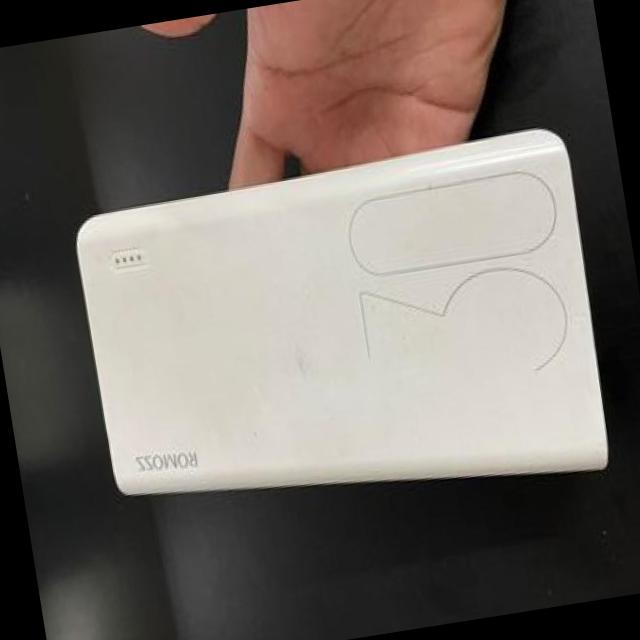portable-charger: (48, 96, 632, 556)
